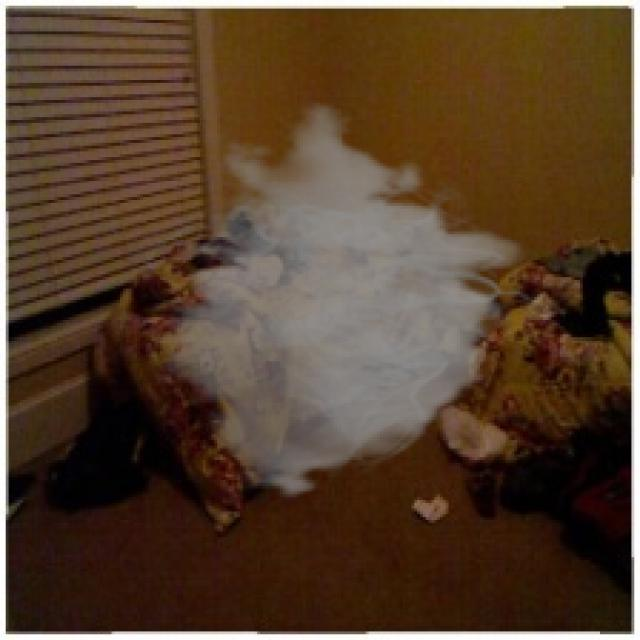smoke: (126, 100, 540, 500)
